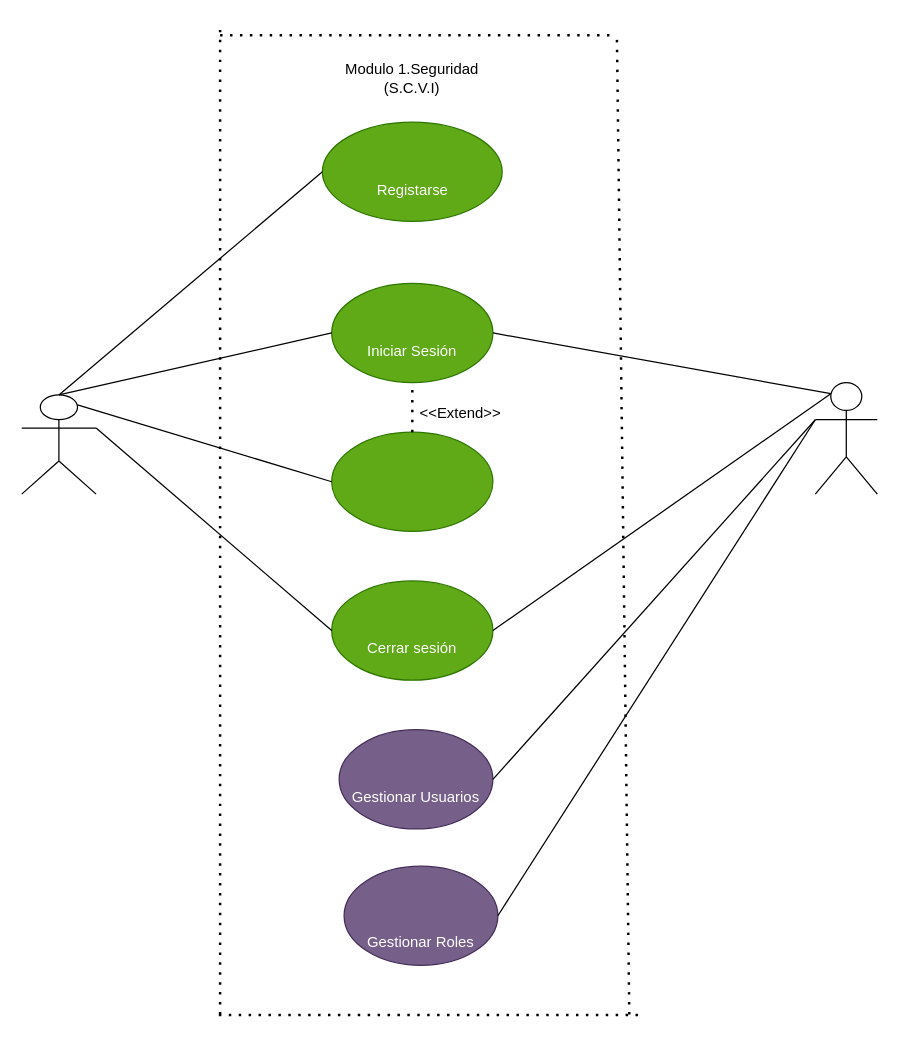
This 899x1038 diagram has some shape labels left out. The centre of each missing label's shape, as x and y in pixels:
ADM: point (845, 437)
Cliente: point (58, 444)
Recuperar Contraseña: point (411, 481)
